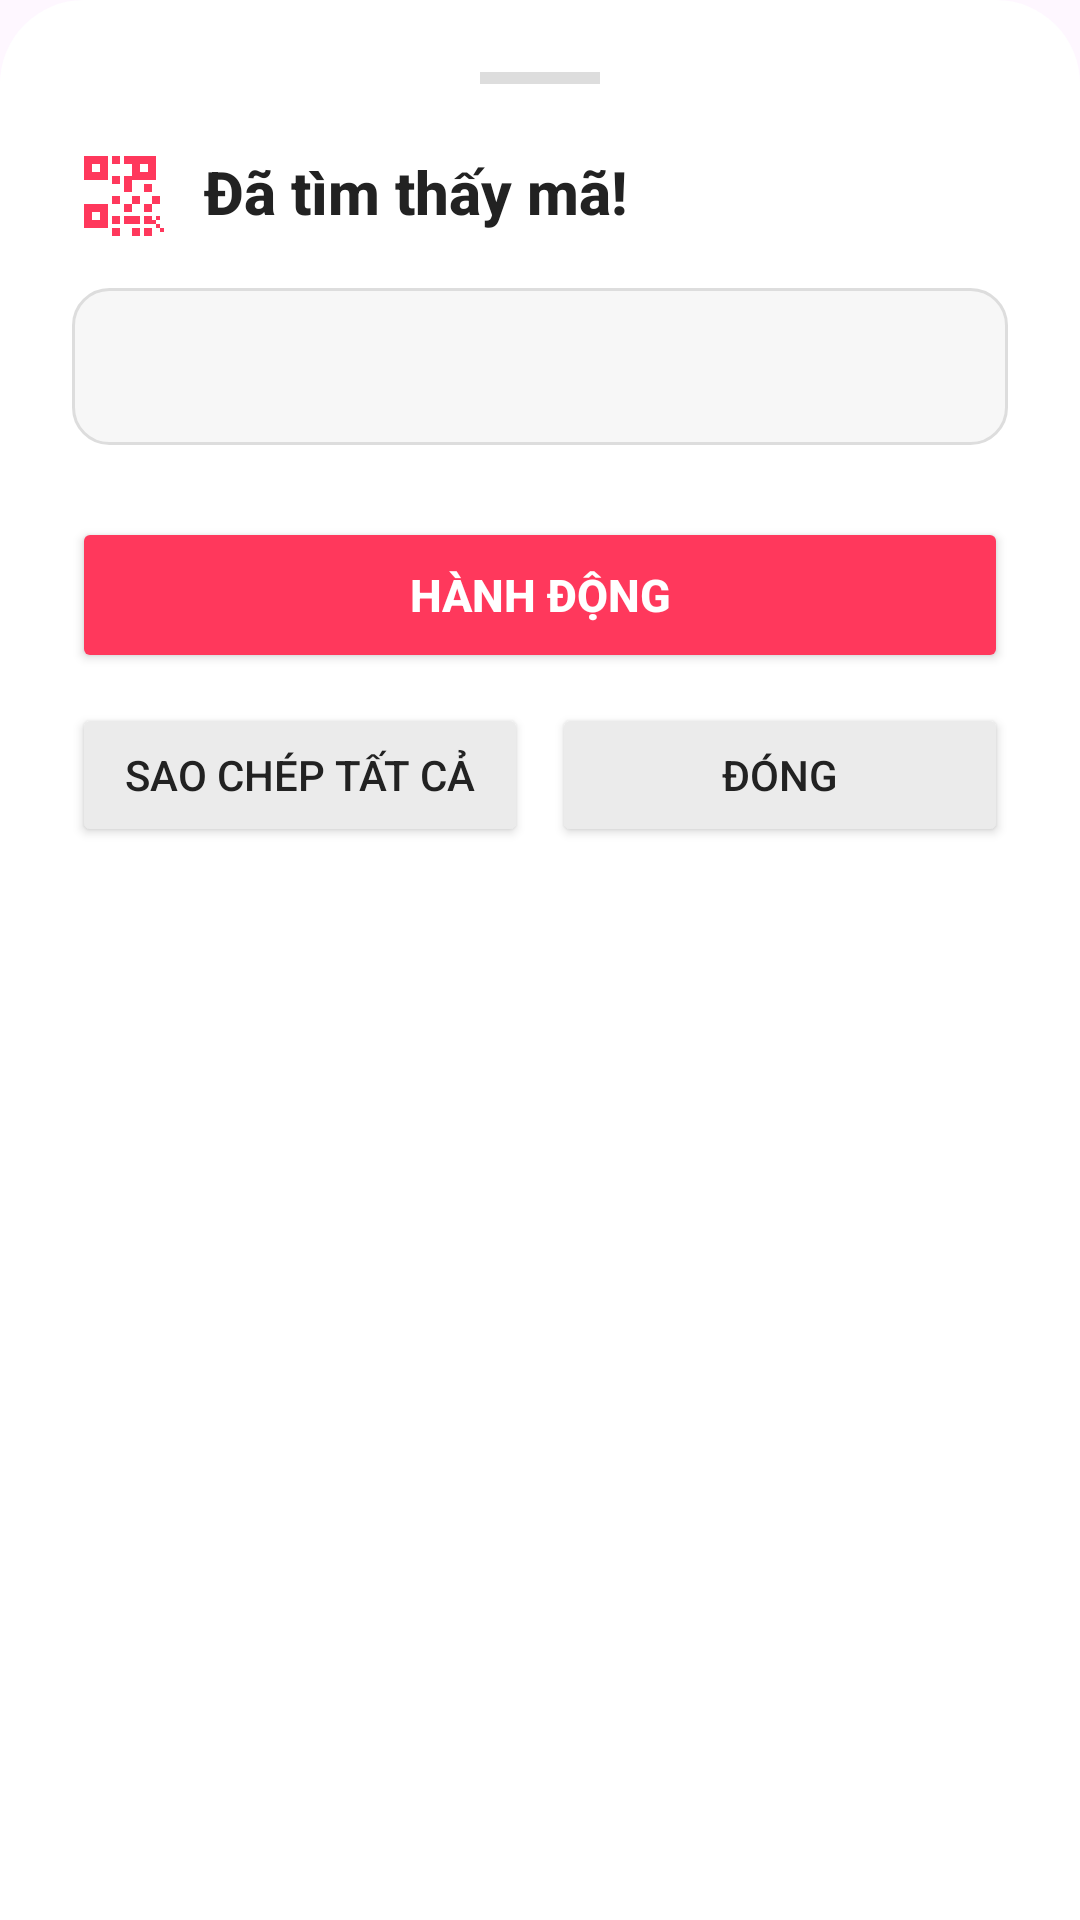

Icon click points for this 1080px×1920px phone screenshot, format [x,y]:
qr code: [124,196]
